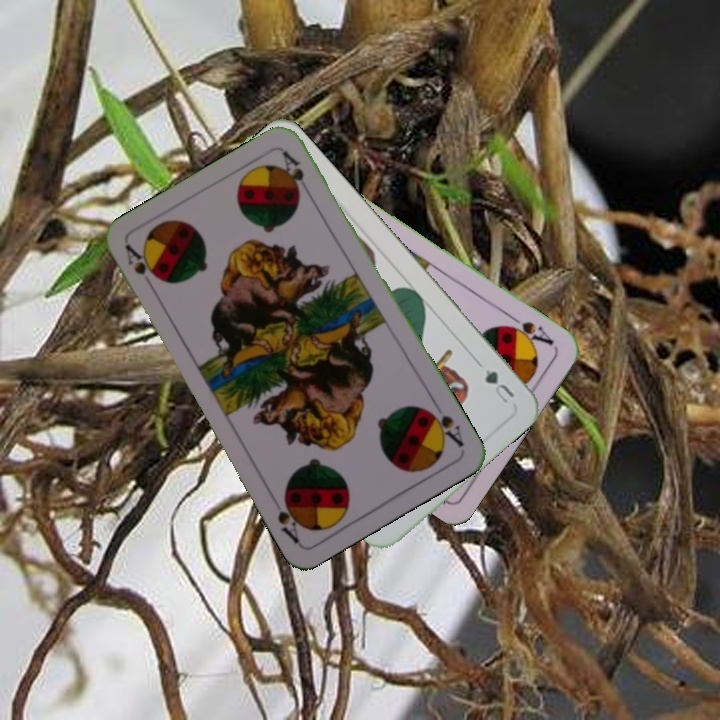GU: (480, 365, 518, 406)
SA: (421, 397, 467, 450), (500, 310, 557, 349), (120, 241, 161, 294)
